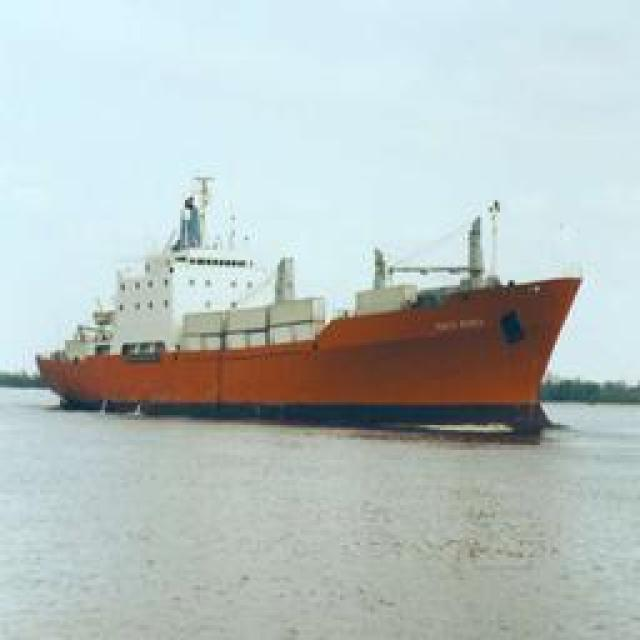CIV_Ship: (44, 185, 576, 428)
